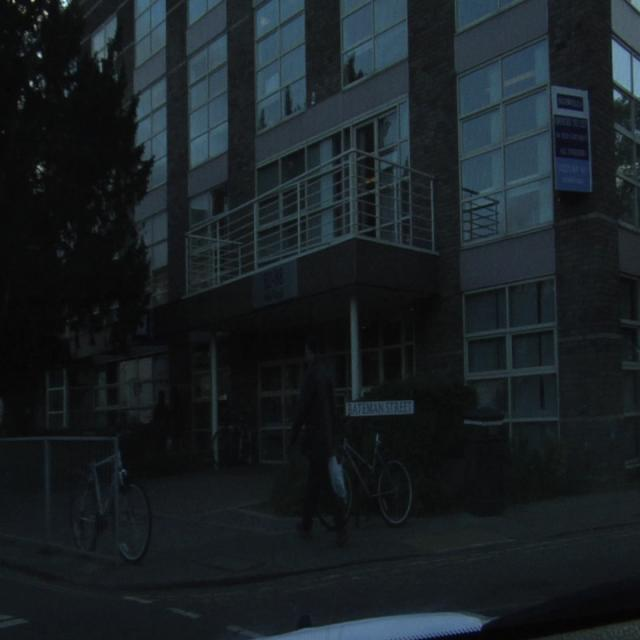Building: (34, 3, 511, 473), (539, 5, 639, 476)
Road: (0, 535, 635, 637)
Tree: (1, 0, 149, 416)
person: (293, 359, 344, 537)
